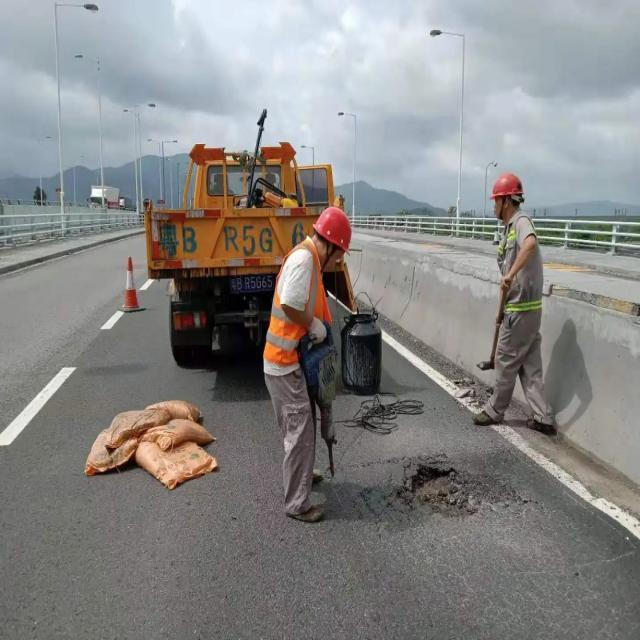pothole: (396, 464, 513, 526)
